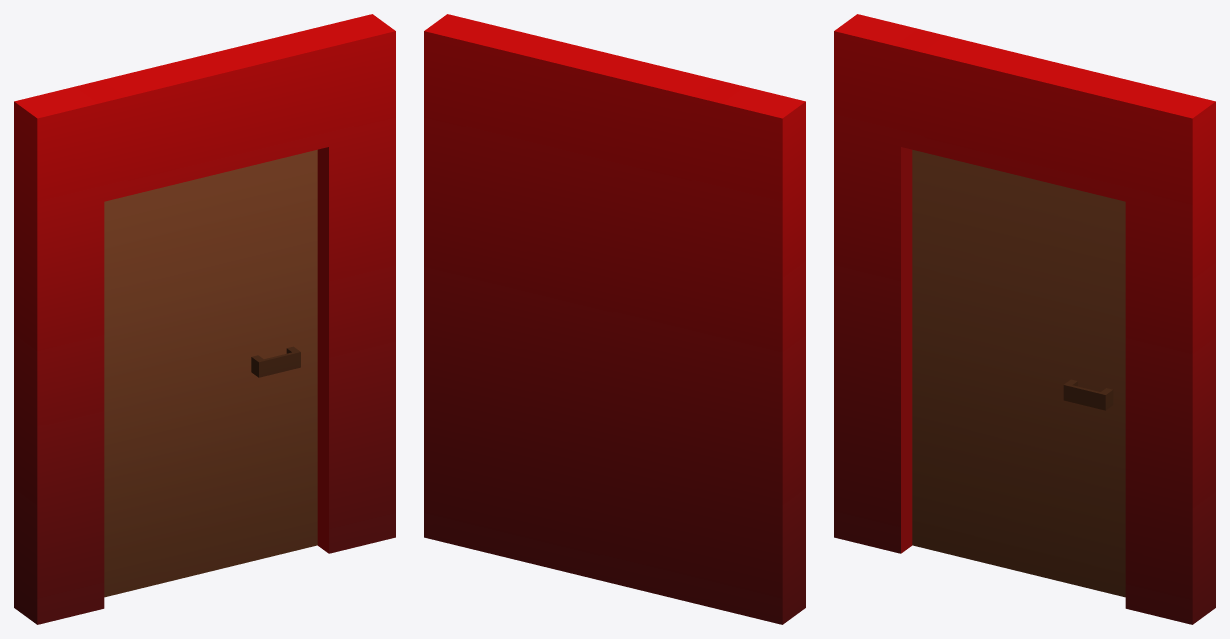
Rendered from Wall_03.fbx.
3 views of the same model, side by side, from view 1: azimuth 30°, elevation 25°; view 2: azimuth 150°, elevation 25°; view 3: azimuth 330°, elevation 25° (orthographic).
Parts seen in each view (by area): view 1: Wall_03; view 2: Wall_03; view 3: Wall_03.
Part boxes in pixels (x1=…): Wall_03: x1=14, y1=14, x2=395, y2=624; Wall_03: x1=424, y1=14, x2=805, y2=624; Wall_03: x1=834, y1=14, x2=1215, y2=624.
Size of the model in its own units: 200 by 270 by 22.58.
